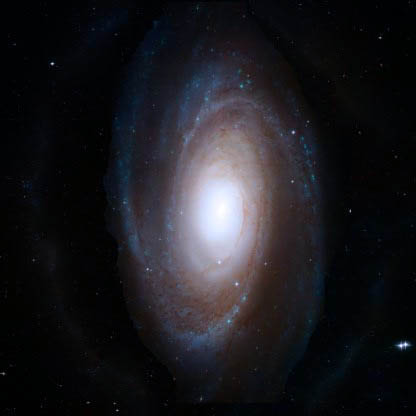Messier 81: (88, 21, 416, 400)
